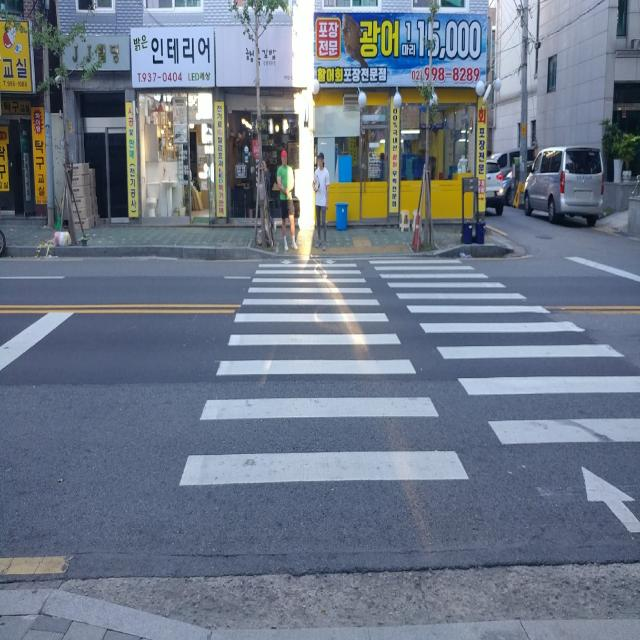횡단보도: (175, 251, 640, 538)
